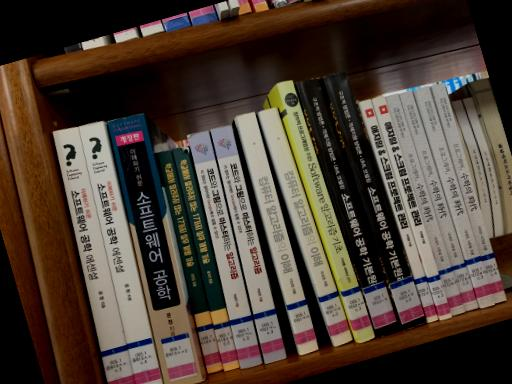book-spine: (296, 78, 401, 338), (323, 70, 427, 331), (277, 80, 376, 343), (108, 113, 204, 384), (259, 107, 354, 346), (79, 121, 163, 384), (53, 126, 135, 384), (237, 112, 319, 355), (209, 124, 286, 363), (371, 96, 452, 321), (398, 90, 480, 312), (358, 99, 439, 323), (413, 86, 494, 309), (386, 93, 466, 317), (188, 131, 263, 369), (431, 83, 507, 304), (171, 146, 240, 372), (156, 149, 223, 374)
